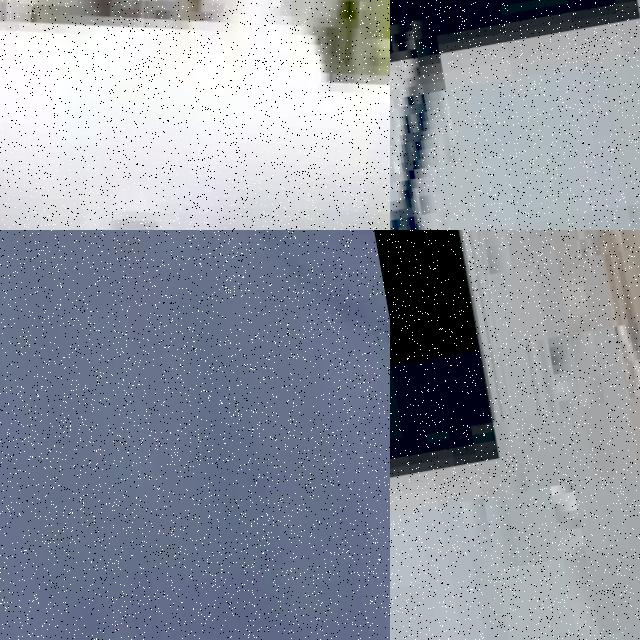drone: (0, 0, 390, 230)
